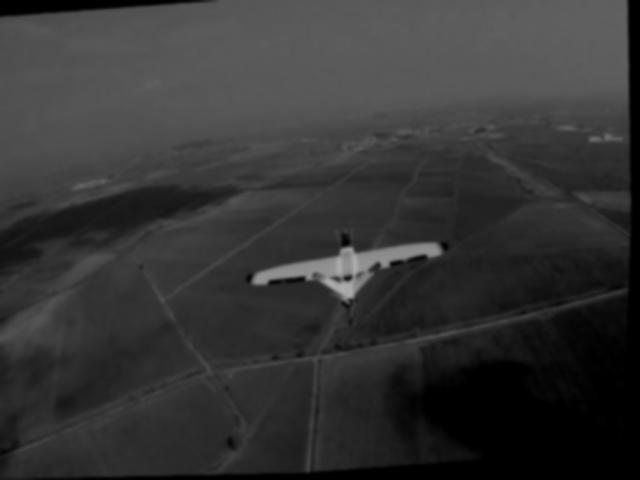hedef: (233, 197, 470, 347)
